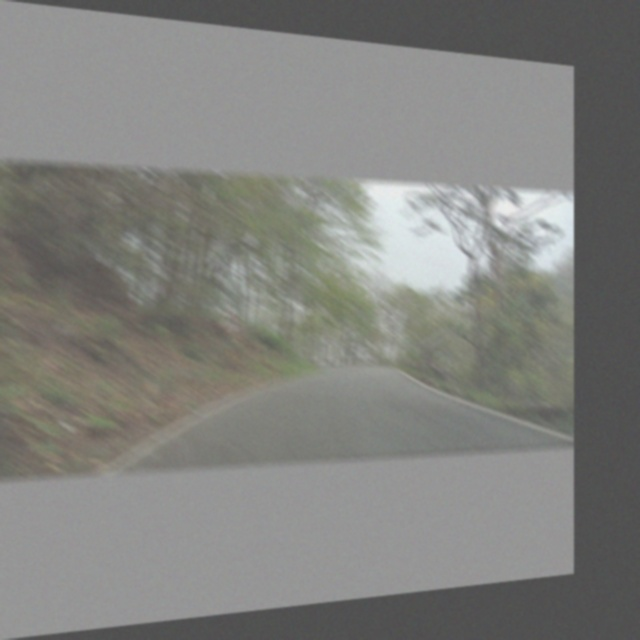Left_Hand_Curve: (218, 307, 242, 335)
